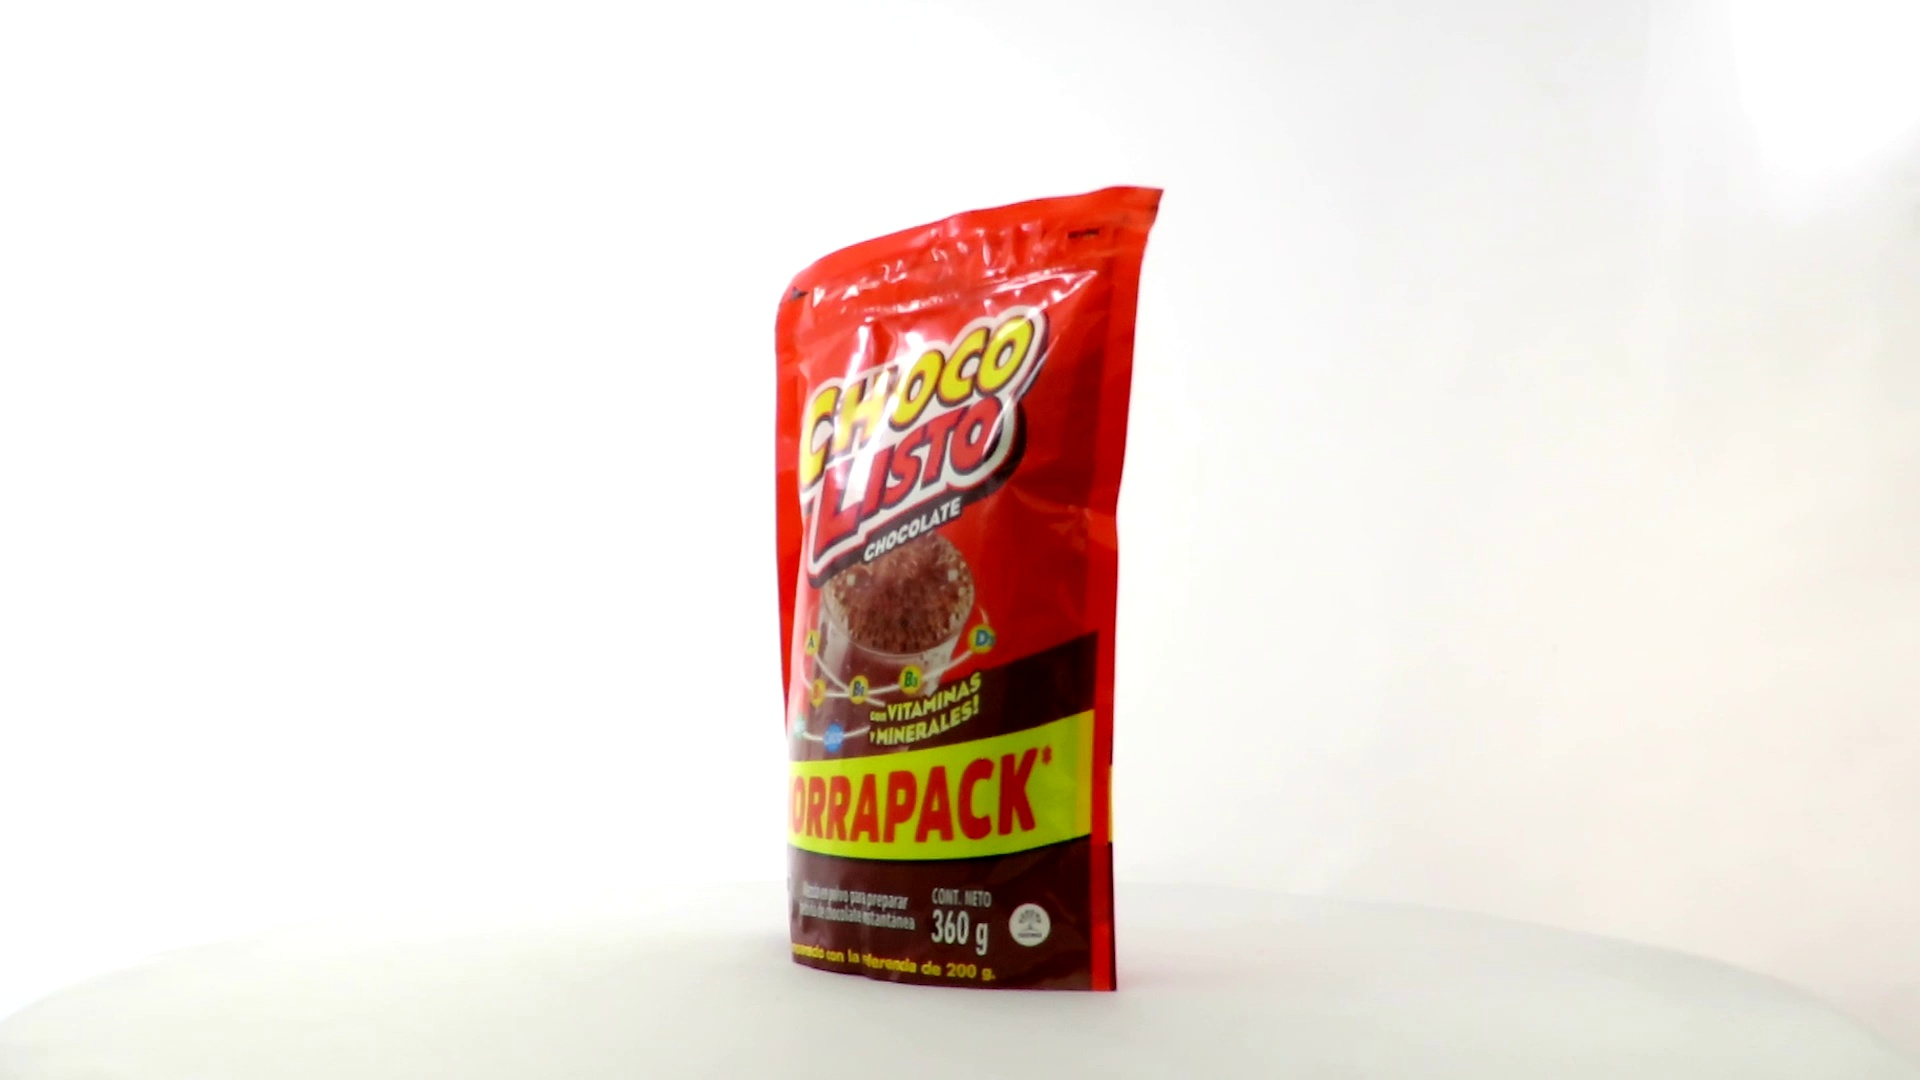COL0170103DYP36000: (769, 181, 1170, 998)
